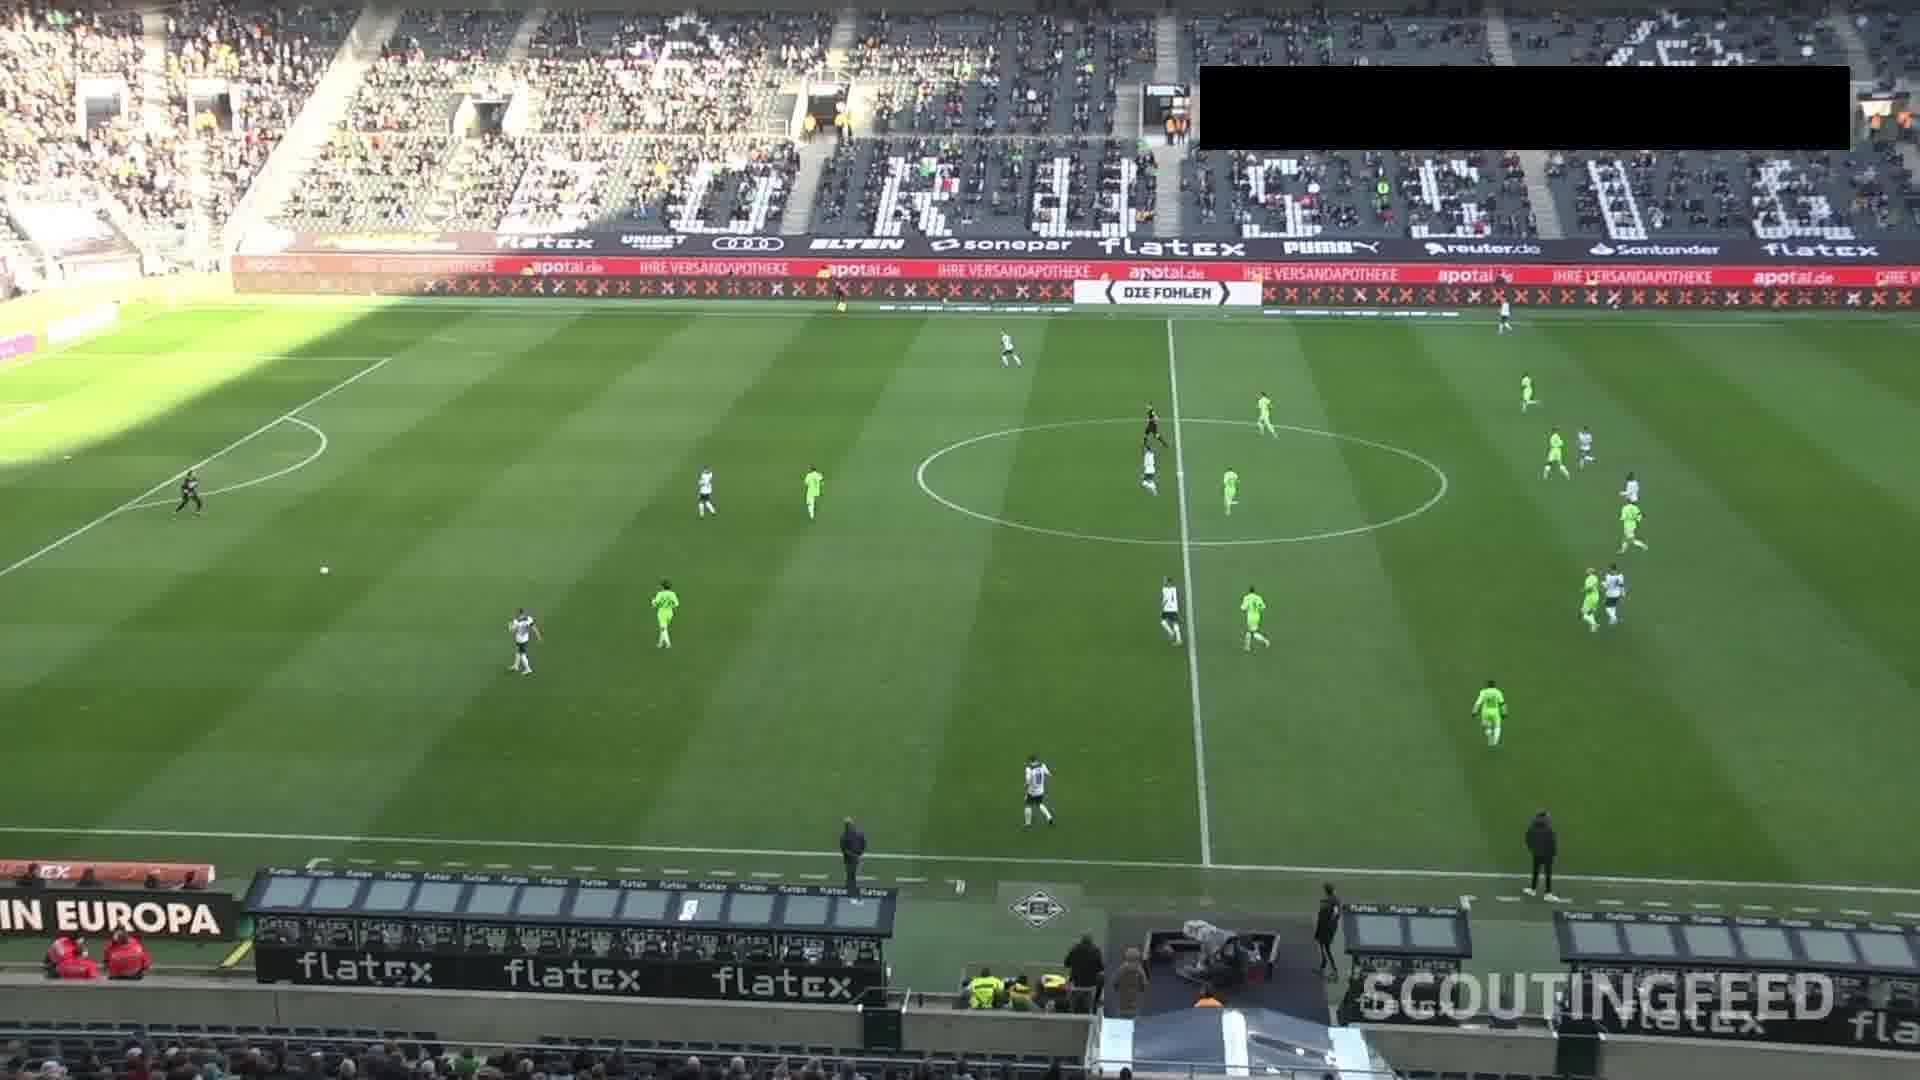football: (319, 566, 328, 576)
